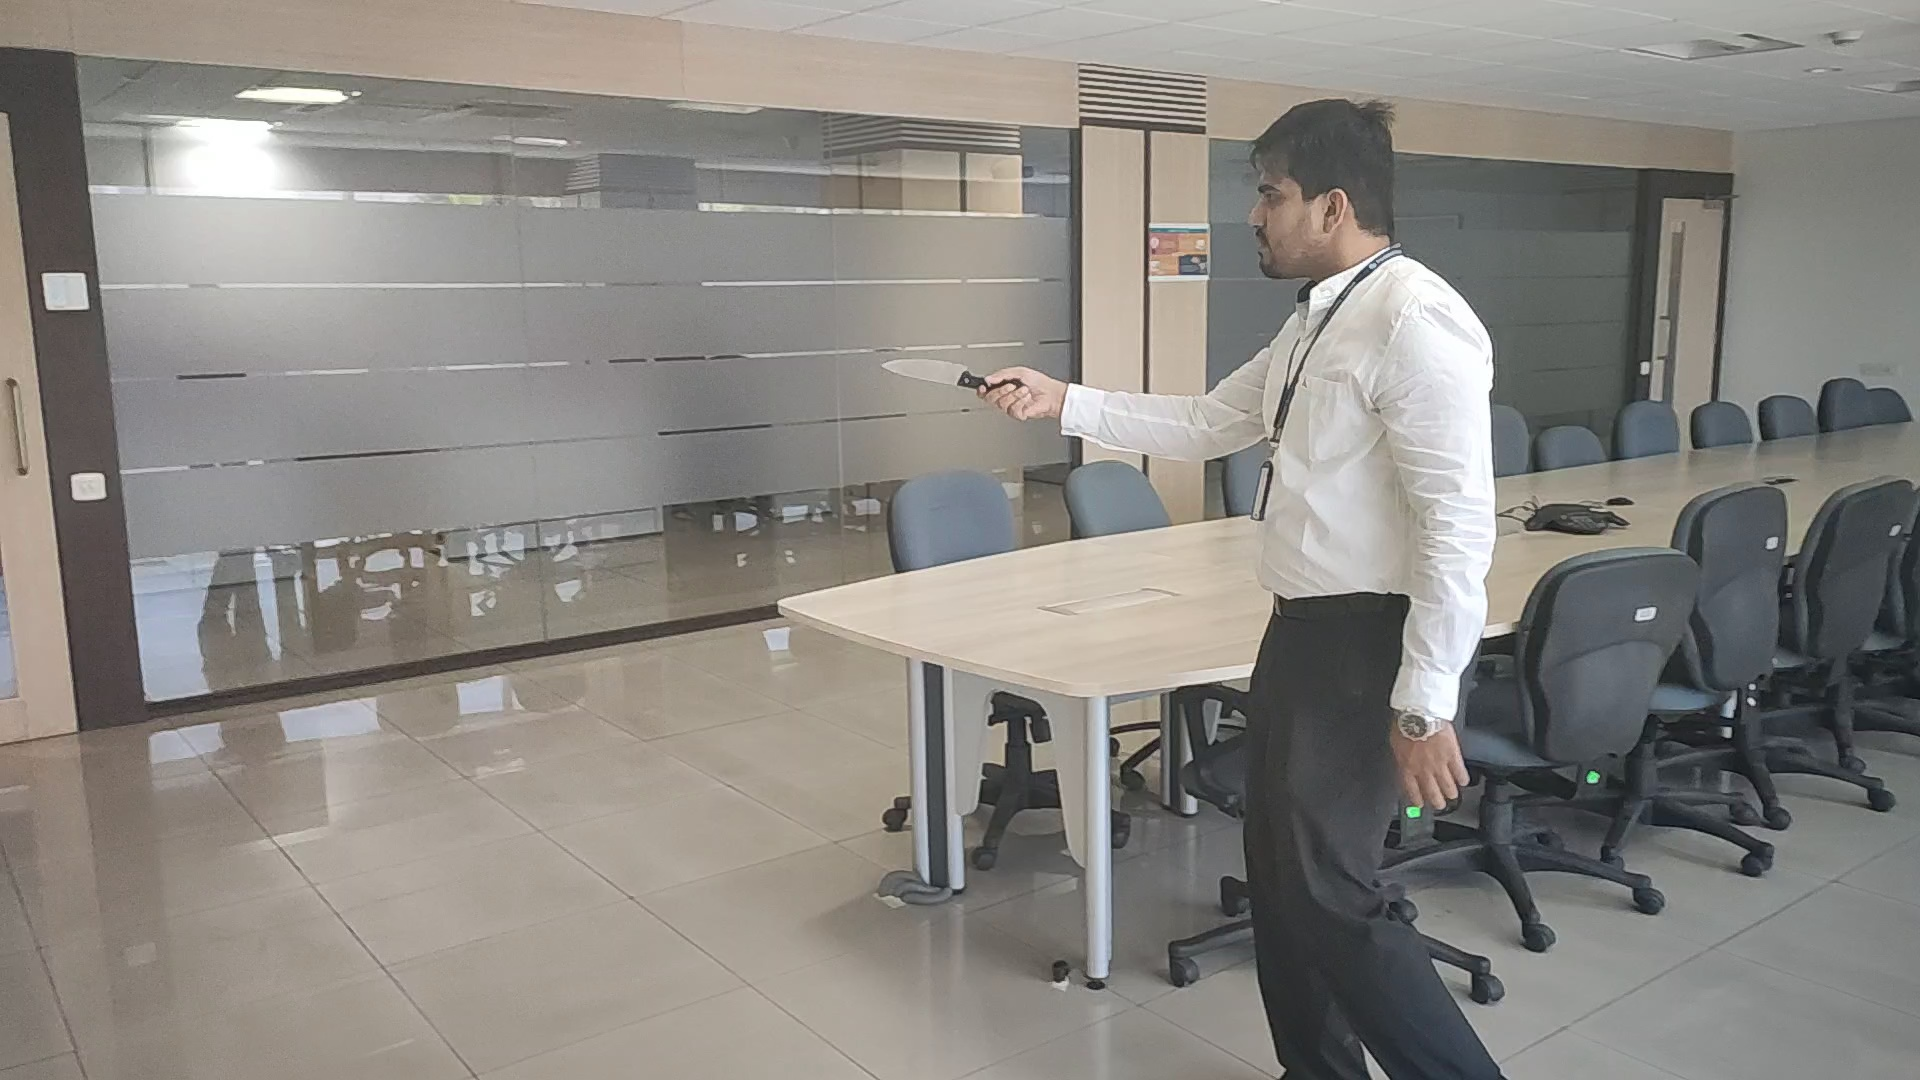gun: (880, 357, 975, 390)
